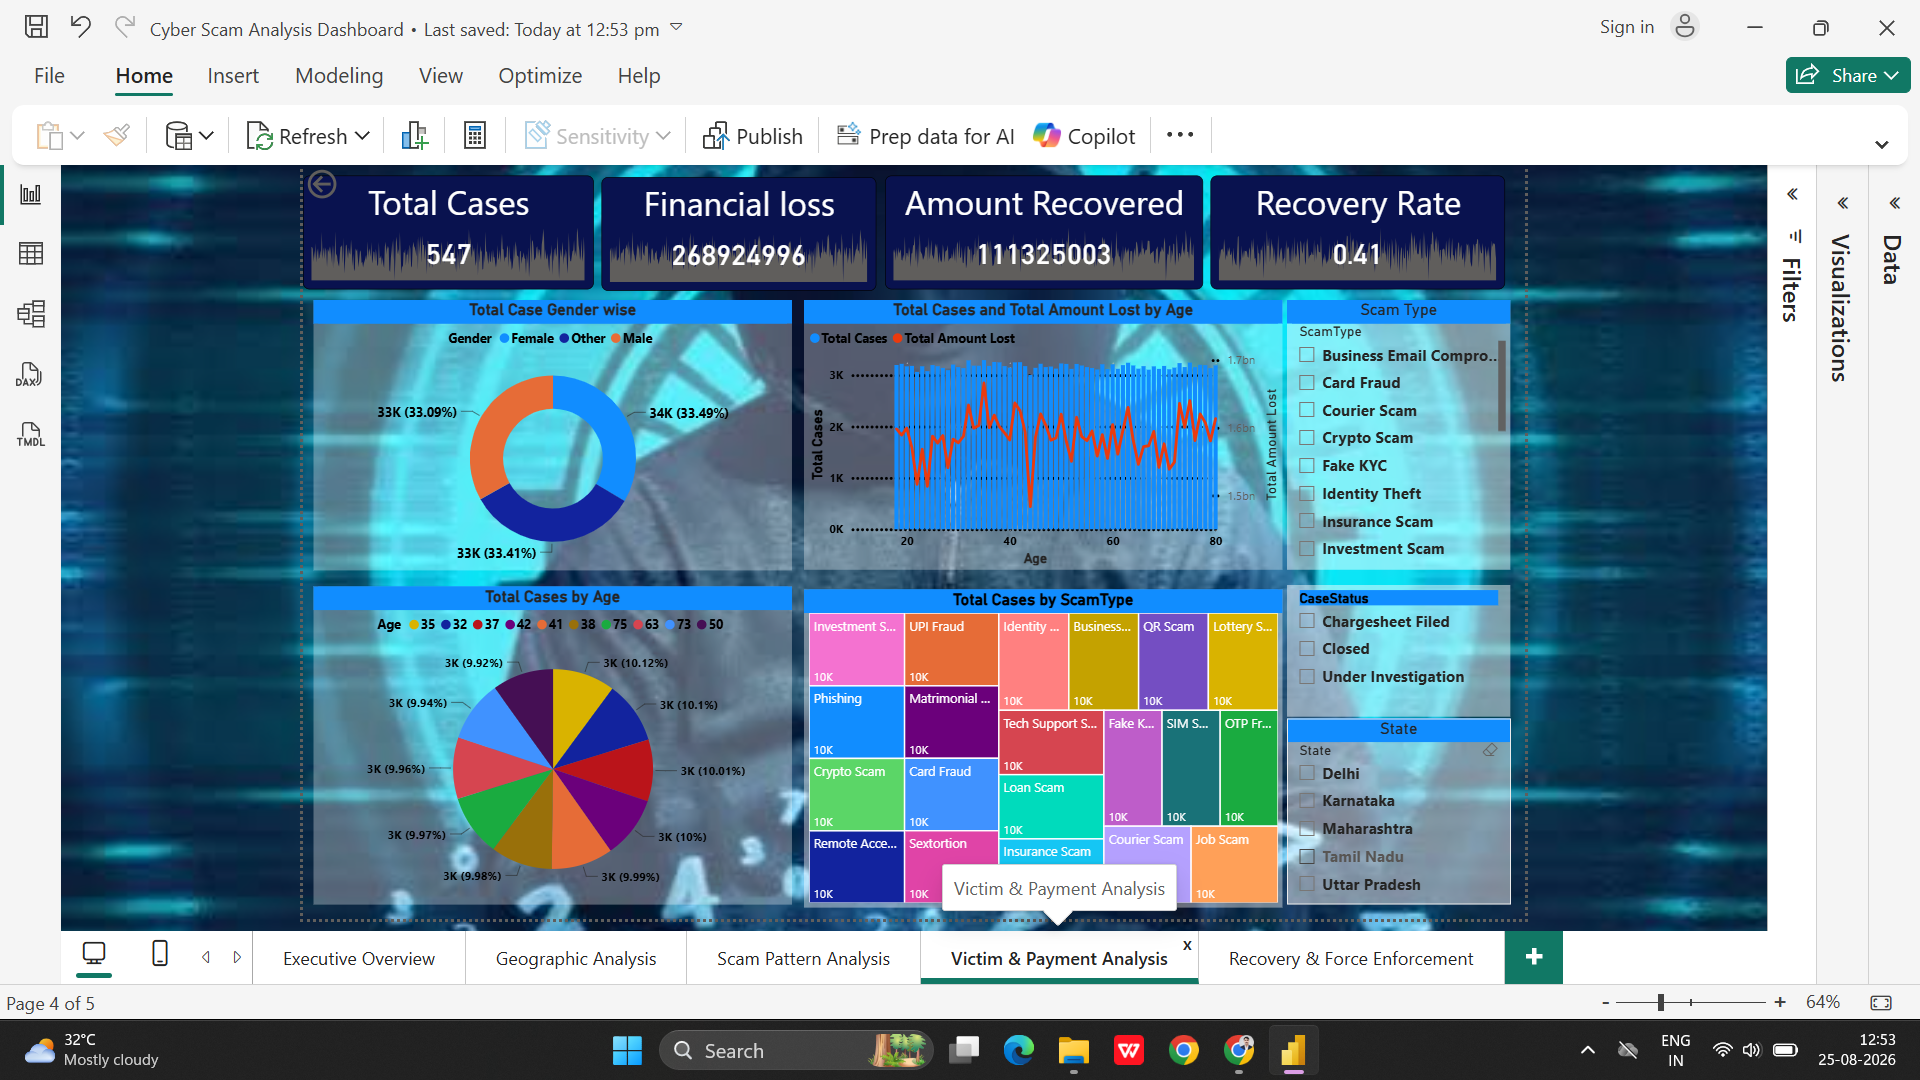

The dashboard page shown, as its layout file describes it:
{"tool":"powerbi","page":{"name":"Victim & Payment Analysis","canvas":[1280,790],"ordinal":3},"visuals":[{"type":"kpi","title":"Total Cases","fields":{"Indicator":["Sheet.Total Cases"],"TrendLine":["Sheet.Date"]},"box":[0,11.6,304.4,119.6],"z":0},{"type":"kpi","title":"Financial loss","fields":{"Indicator":["Sheet.Total Amount Lost"],"TrendLine":["Sheet.Date"]},"box":[312.9,12.1,287.7,119.6],"z":1},{"type":"kpi","title":"Amount Recovered","fields":{"Indicator":["Sheet.Total Amount Recovered"],"TrendLine":["Sheet.Date"]},"box":[609.2,10.6,333.1,119.6],"z":2},{"type":"kpi","title":"Recovery Rate","fields":{"Indicator":["Sheet.Recovery rate %"],"TrendLine":["Sheet.Date"]},"box":[950.9,11.1,308.9,119.6],"z":3},{"type":"donutChart","title":"Total Case  Gender  wise ","fields":{"Y":["Sheet.Total Cases"],"Category":["Sheet.Gender"]},"box":[10.6,140.8,501.2,283.2],"z":4},{"type":"lineClusteredColumnComboChart","fields":{"Y":["Sheet.Total Cases"],"Y2":["Sheet.Total Amount Lost"],"Category":["Sheet.Age"]},"box":[524.9,141.4,501.4,282.9],"z":5},{"type":"pieChart","fields":{"Y":["Sheet.Total Cases"],"Category":["Sheet.Age"]},"box":[11,441.6,501.4,333.2],"z":6},{"type":"treemap","fields":{"Group":["Sheet.ScamType"],"Values":["Sheet.Total Cases"]},"box":[524.9,444.8,501.4,333.2],"z":7},{"type":"slicer","title":"State ","fields":{"Values":["Sheet.State"]},"box":[1031,579.9,234.2,194.9],"z":8},{"type":"slicer","title":"State ","fields":{"Values":["Sheet.CaseStatus"]},"box":[1031,440.1,234.2,138.3],"z":9},{"type":"slicer","title":"Scam Type","fields":{"Values":["Sheet.ScamType"]},"box":[1031,141.4,234.2,282.9],"z":10},{"type":"actionButton","box":[0,0,100,40],"z":11}]}

Visuals, with their boxes on the page's 1280x790 design canvas (x1, y1, x2, y2). These are canvas units, not pixel positions in the 1920x1080 screenshot, which may show the page scaled, cropped or inside an application window:
"Total Cases" kpi: (x1=0, y1=12, x2=304, y2=131)
"Financial loss" kpi: (x1=313, y1=12, x2=601, y2=132)
"Amount Recovered" kpi: (x1=609, y1=11, x2=942, y2=130)
"Recovery Rate" kpi: (x1=951, y1=11, x2=1260, y2=131)
"Total Case  Gender  wise " donutChart: (x1=11, y1=141, x2=512, y2=424)
lineClusteredColumnComboChart - Sheet.Total Cases x Sheet.Total Amount Lost: (x1=525, y1=141, x2=1026, y2=424)
pieChart - Sheet.Total Cases x Sheet.Age: (x1=11, y1=442, x2=512, y2=775)
treemap - Sheet.ScamType x Sheet.Total Cases: (x1=525, y1=445, x2=1026, y2=778)
"State " slicer: (x1=1031, y1=580, x2=1265, y2=775)
"State " slicer: (x1=1031, y1=440, x2=1265, y2=578)
"Scam Type" slicer: (x1=1031, y1=141, x2=1265, y2=424)
actionButton: (x1=0, y1=0, x2=100, y2=40)
